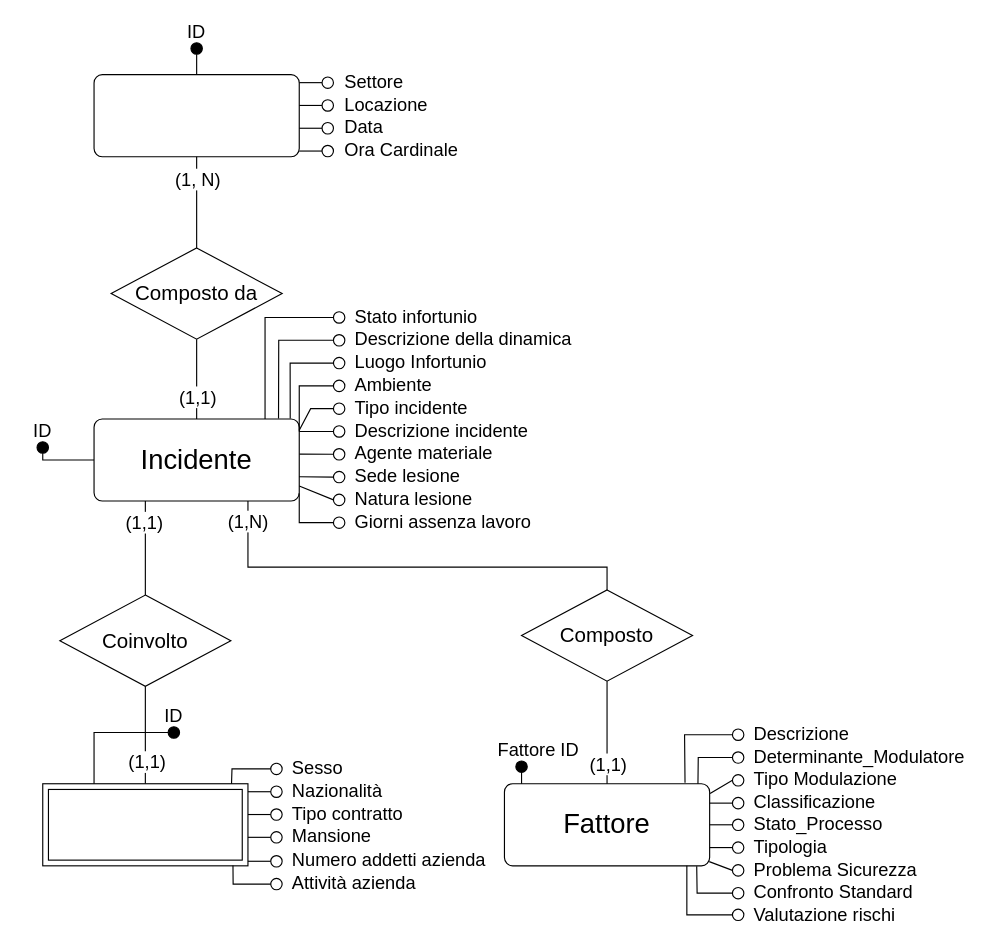
Some shapes in this 984 by 945 pixel diagram are drawn without their labels. Here are the shapes that lost their labels. From the top down, the centre of each, then its label:
pixel 196 115: Infortunio
pixel 145 824: Lavoratore
